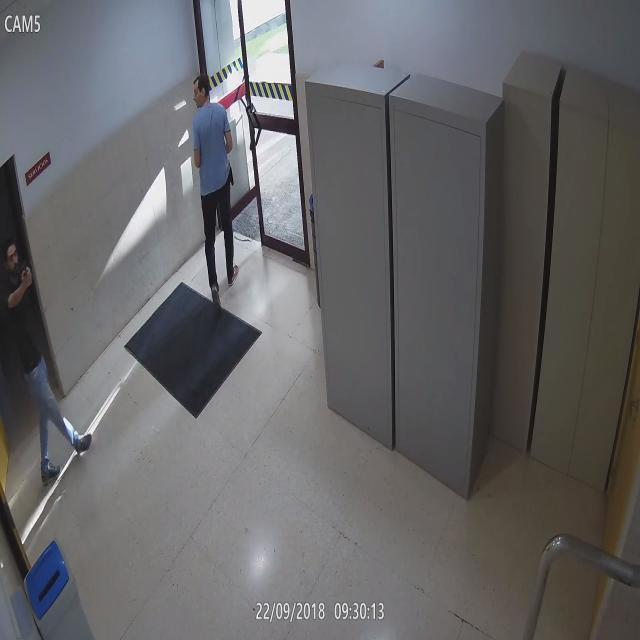weapon: (20, 264, 30, 287), (228, 167, 236, 188)
